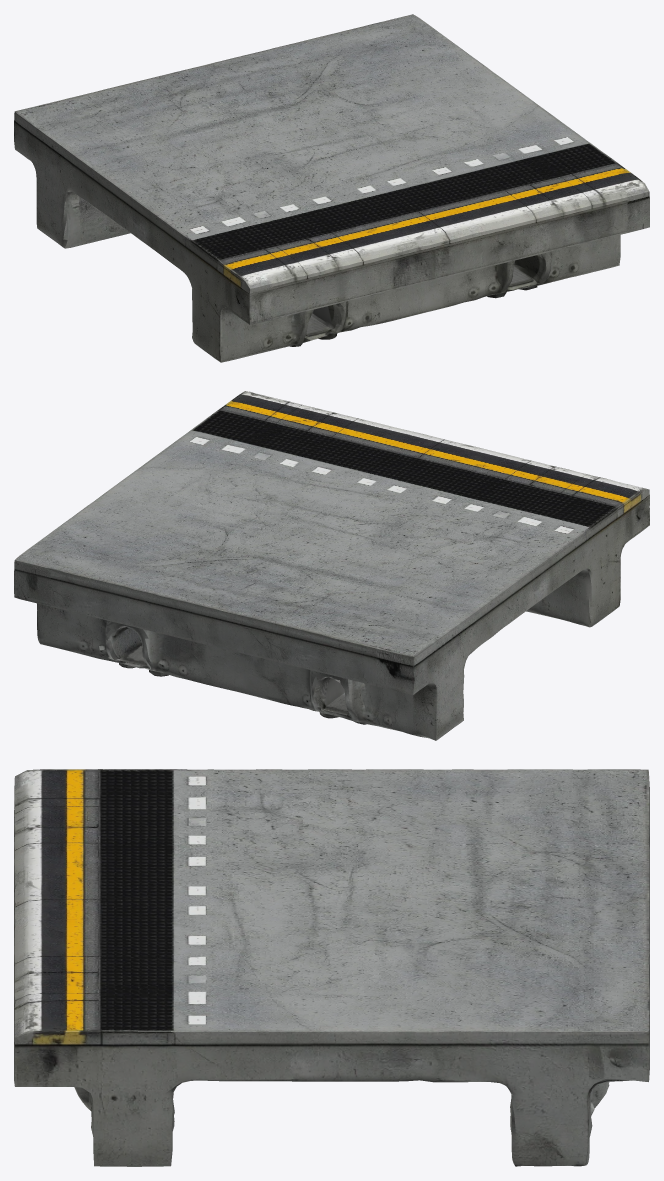
Rendered from rua_de_concreto_DKB.glb.
3 views of the same model, one above another, from view 1: azimuth 30°, elevation 25°; view 2: azimuth 150°, elevation 25°; view 3: azimuth 270°, elevation 25° (orthographic). The views are drawn at different scales.
Bounding box in the file's own units: 1.7 × 0.441 × 1.74.
1 material, 1 textured.
